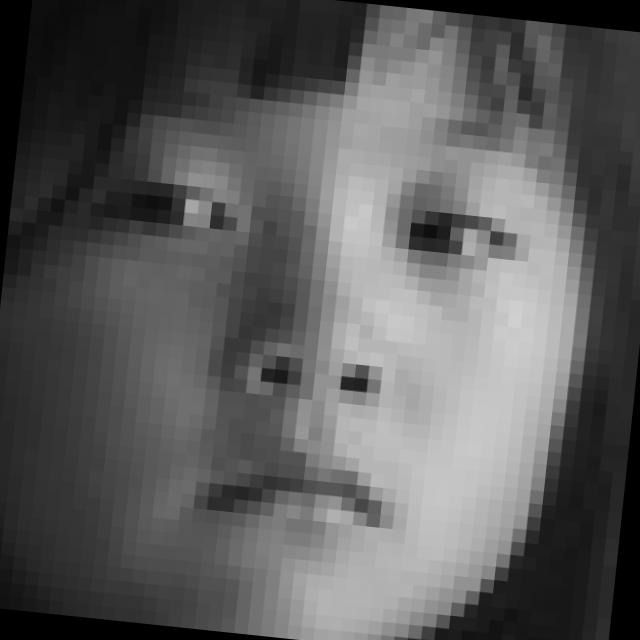neutral: (42, 65, 576, 580)
